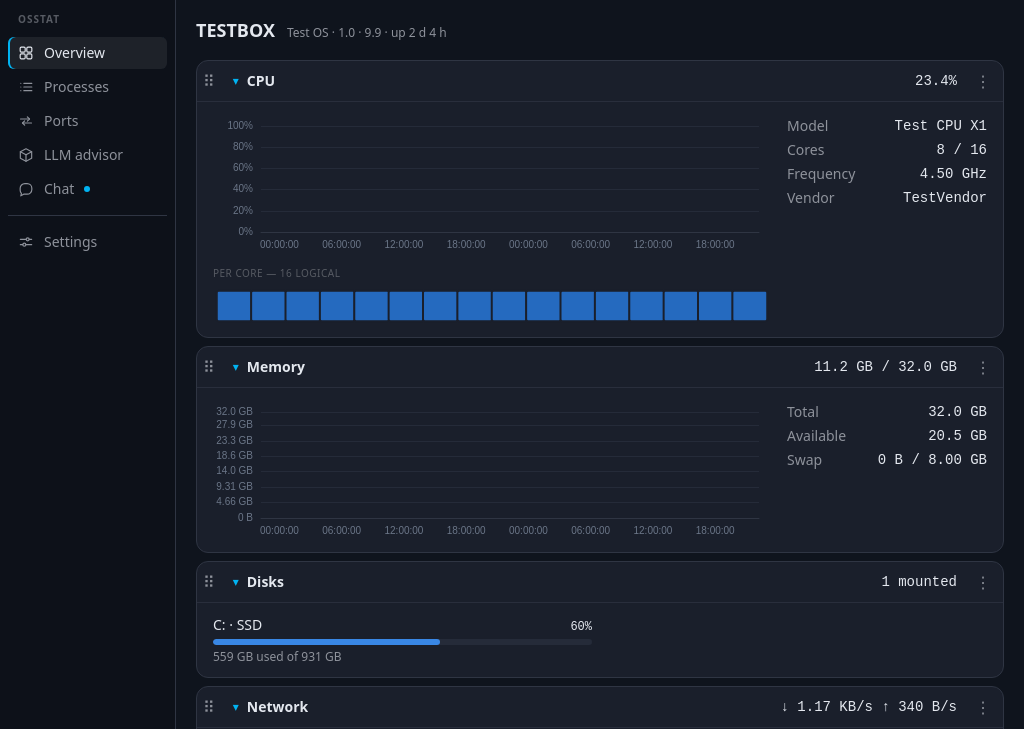
Test: App › filters the tree and reveals matches inside collapsed parents
Expected: the heading "TESTBOX" is shown, [196,16,275,44]
Click the button titled "Processes": (88, 87) [8,71,167,103]
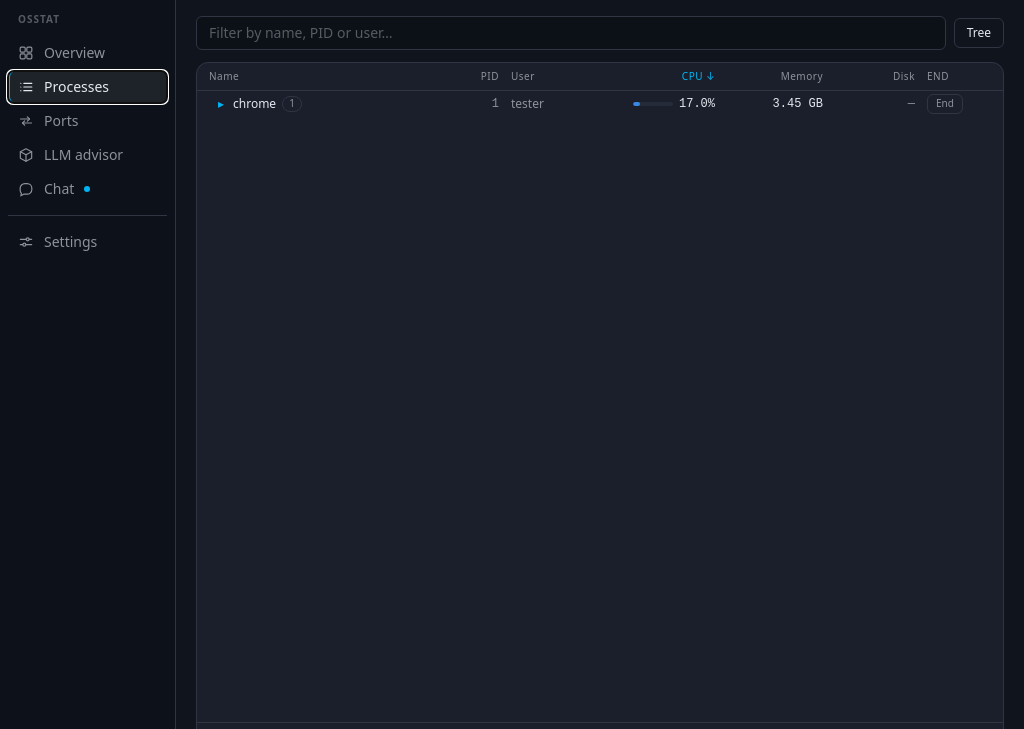
In the search field named "Filter processes": (571, 33) [196,16,946,50], type "renderer"
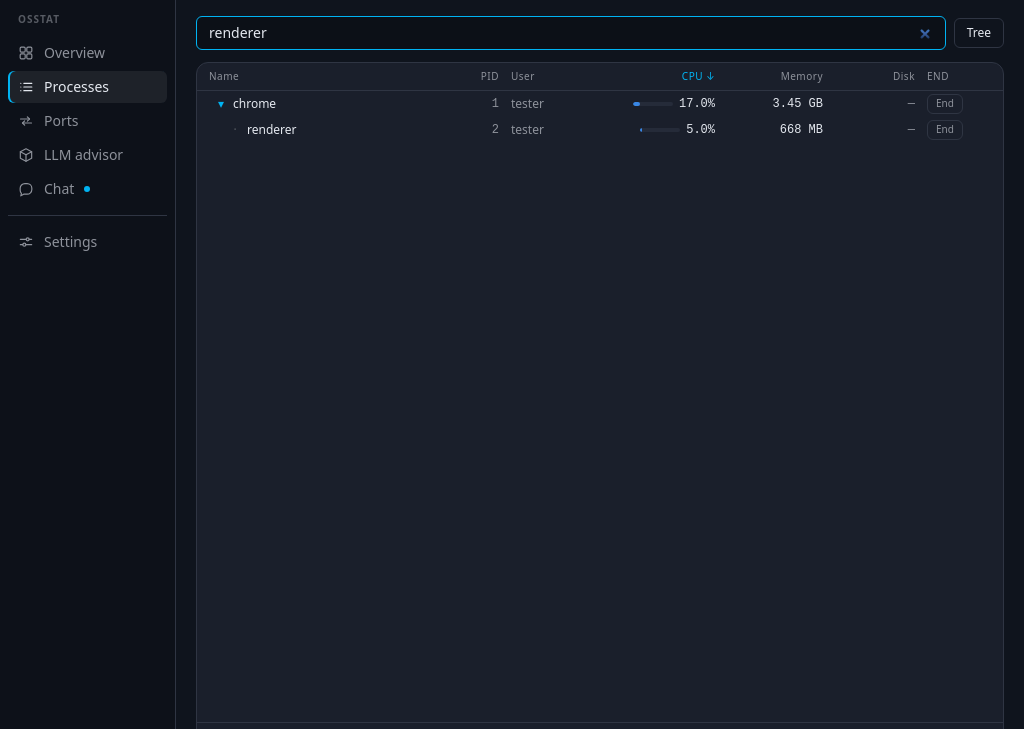
Expected: the text "renderer" is shown, [247,122,296,138]
